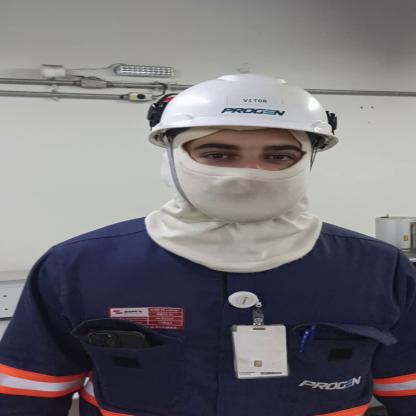Balaclava: (142, 130, 331, 276)
Capacete: (139, 70, 357, 147)
